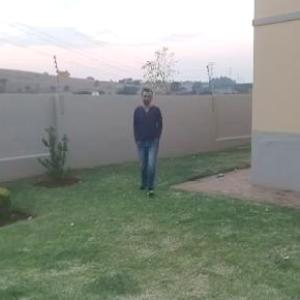follow: (132, 85, 168, 192)
